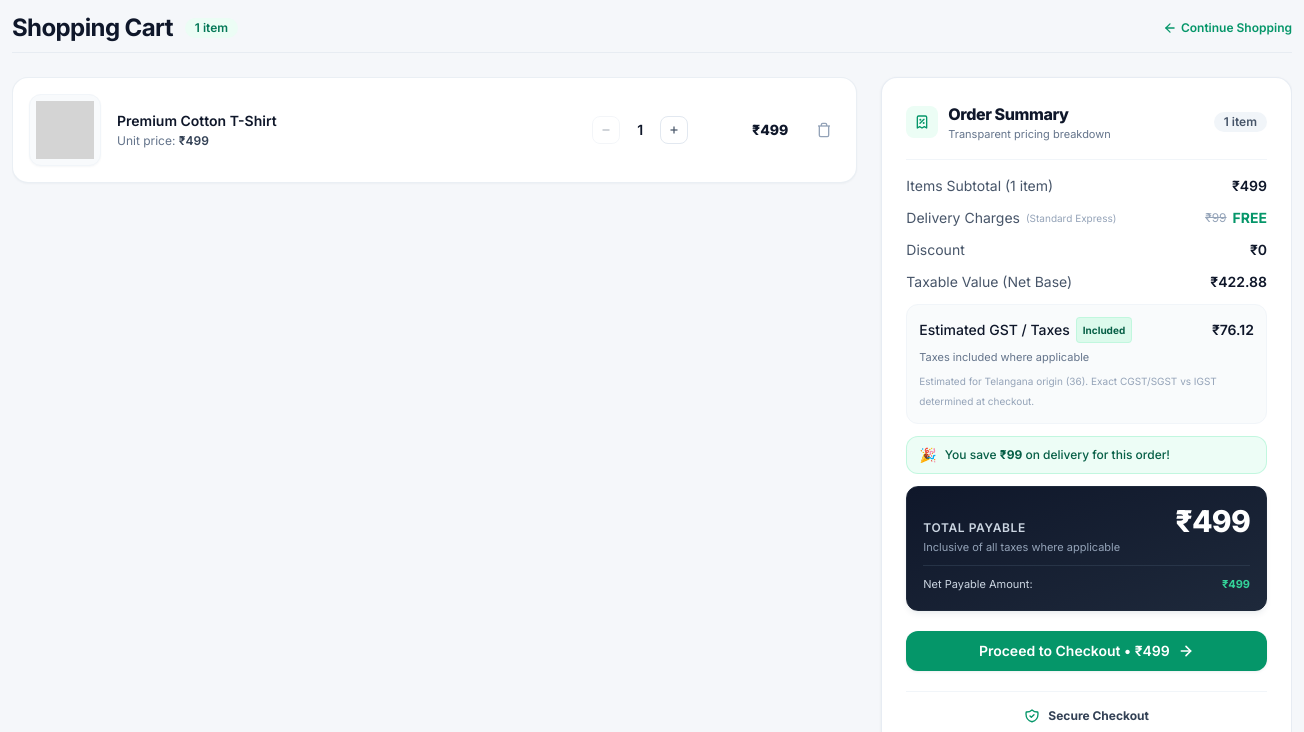
Test: CartPage - Consistent Pricing, Transparent Tax & Substantiated Badges › handles quantity increases and updates total payable dynamically
The image size is (1304, 732).
# Click Increase Quantity
Click the button named "increase quantity of".
click(674, 130)  # box [660,116,688,144]
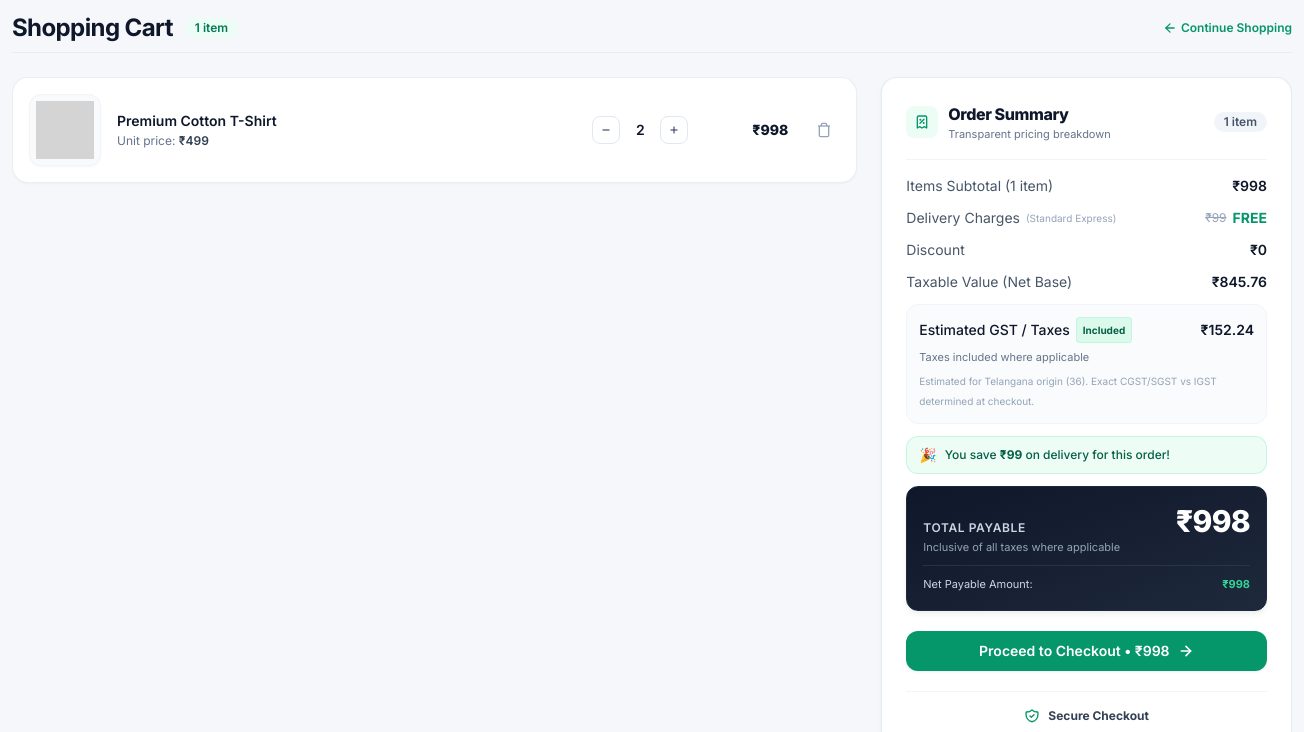
Now the text "2" is shown, box [636,121,645,138]
Now the text "₹998" in the row of "Premium Cotton T-Shirt" is shown, box [752,121,788,138]
Now the button "Proceed to Checkout • ₹998" is shown, box [906,630,1267,670]
